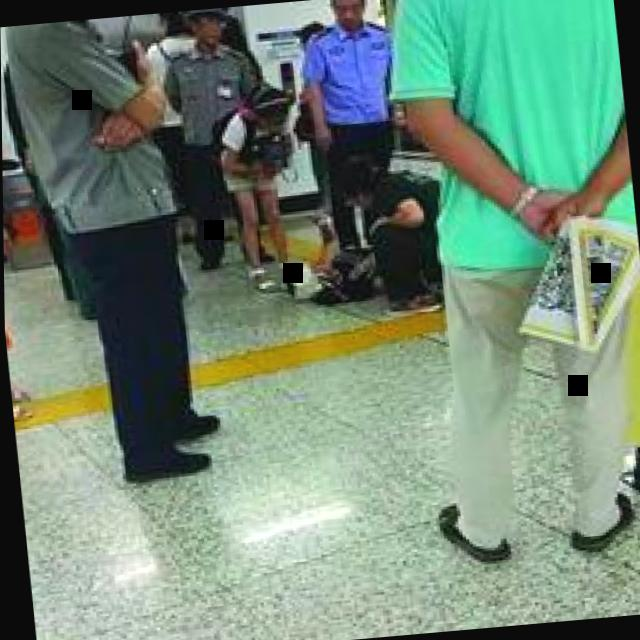Fall-Detected: (260, 164, 453, 317)
